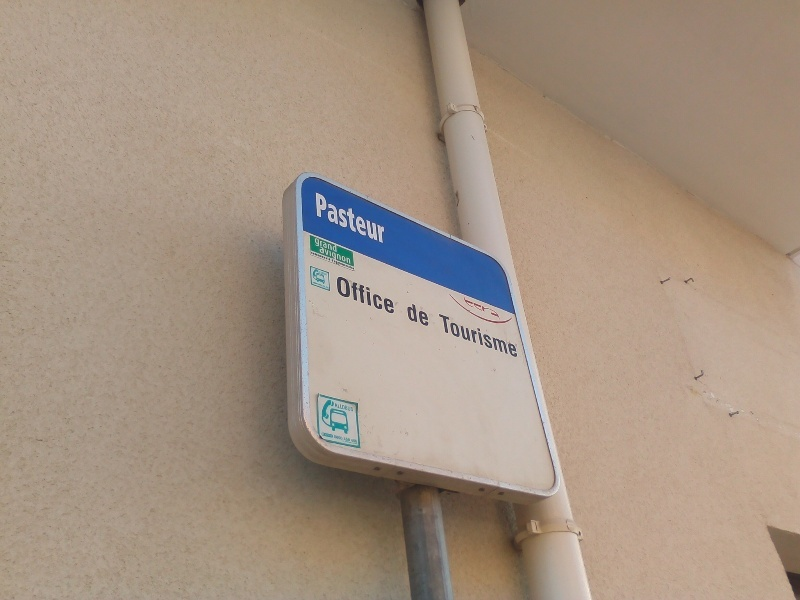text: (321, 191, 336, 246), (337, 191, 352, 246), (353, 191, 368, 246), (369, 191, 384, 246), (449, 313, 464, 359), (465, 313, 480, 359), (481, 313, 496, 359), (497, 313, 512, 359), (337, 275, 352, 316), (353, 275, 368, 316), (369, 275, 384, 316), (438, 313, 448, 359), (385, 275, 394, 316), (465, 297, 480, 321), (481, 297, 496, 321), (513, 313, 520, 359), (321, 251, 336, 272), (337, 251, 352, 272), (417, 301, 429, 327), (321, 246, 336, 266), (337, 246, 351, 266), (315, 191, 320, 246), (406, 301, 416, 327), (321, 237, 336, 254), (337, 431, 352, 445), (322, 431, 336, 445), (311, 251, 320, 272), (337, 402, 352, 413), (497, 297, 502, 321), (321, 281, 331, 291), (315, 237, 320, 254), (353, 431, 359, 445), (313, 281, 320, 291), (385, 191, 386, 246), (353, 251, 355, 272), (321, 270, 328, 276), (463, 297, 464, 321), (353, 402, 355, 413), (337, 237, 338, 254), (318, 270, 320, 276)
